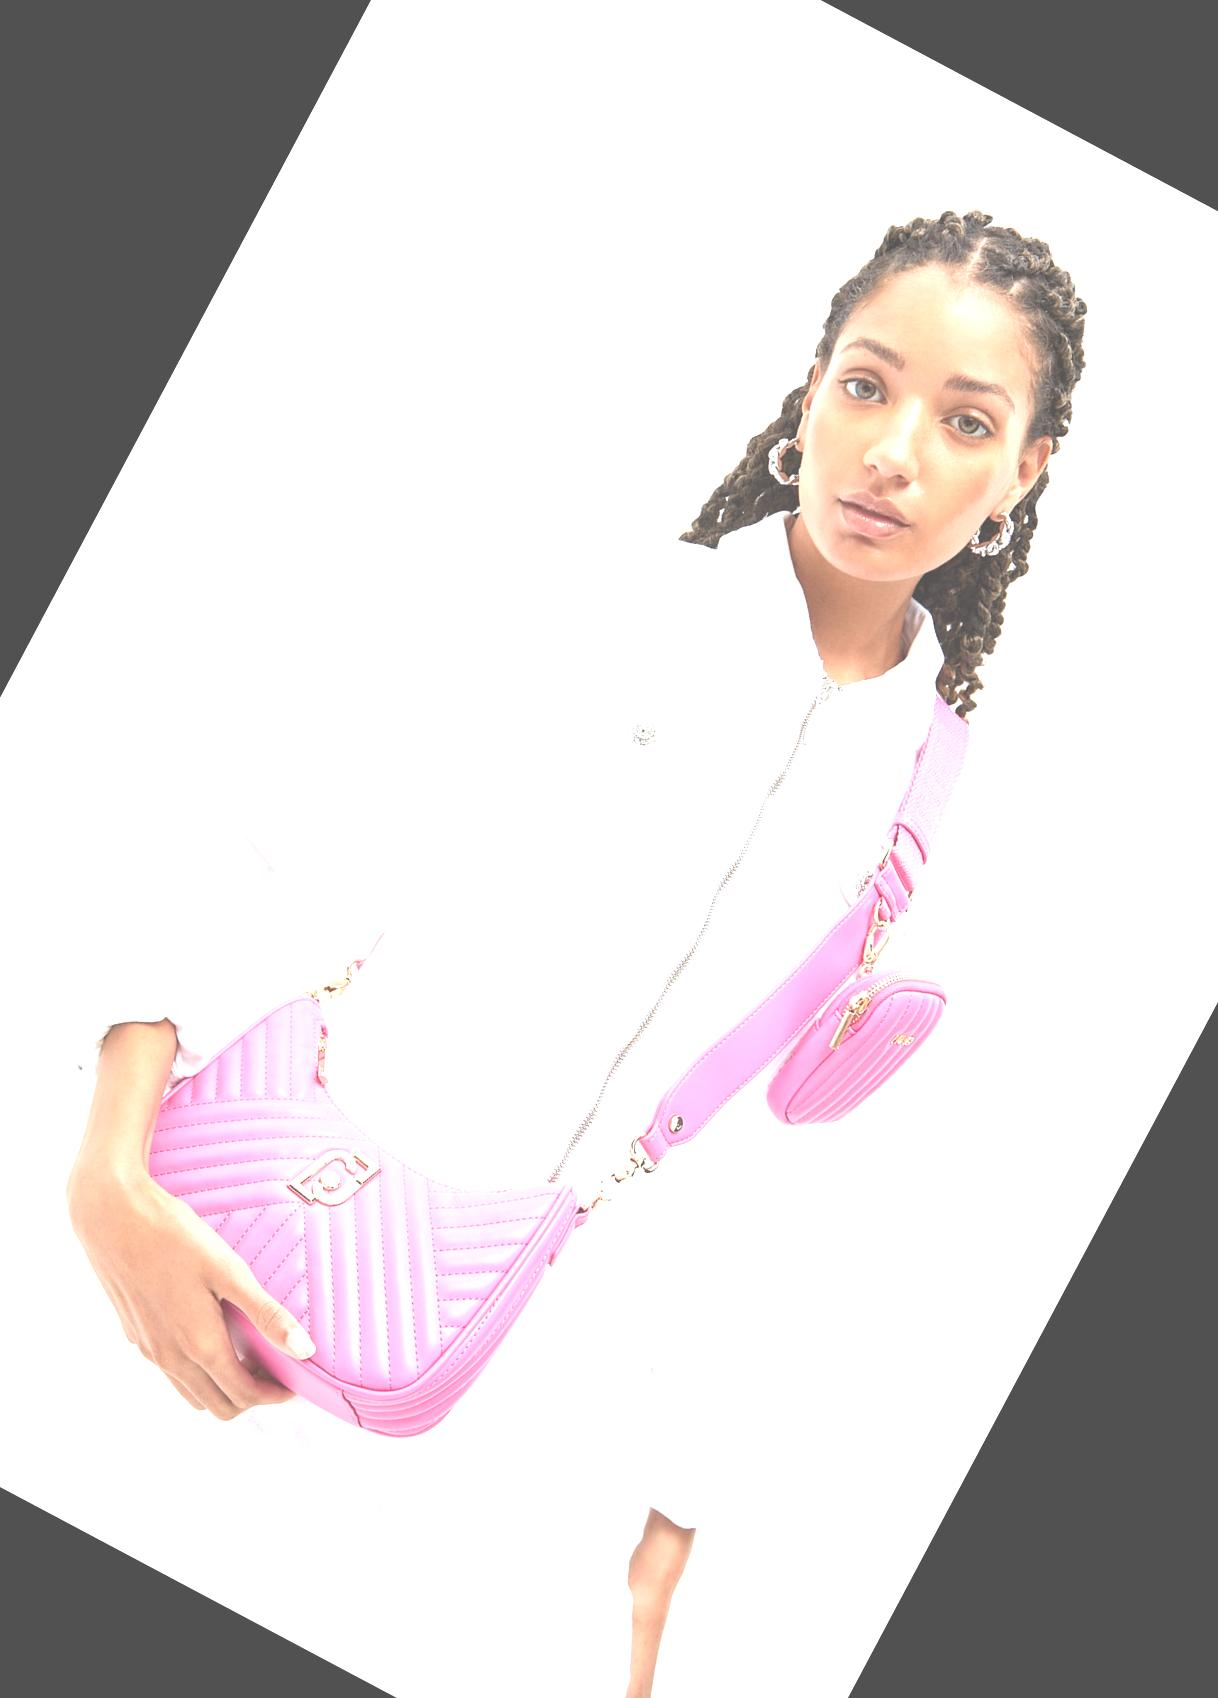LIU-JO: (285, 1127, 382, 1225)
